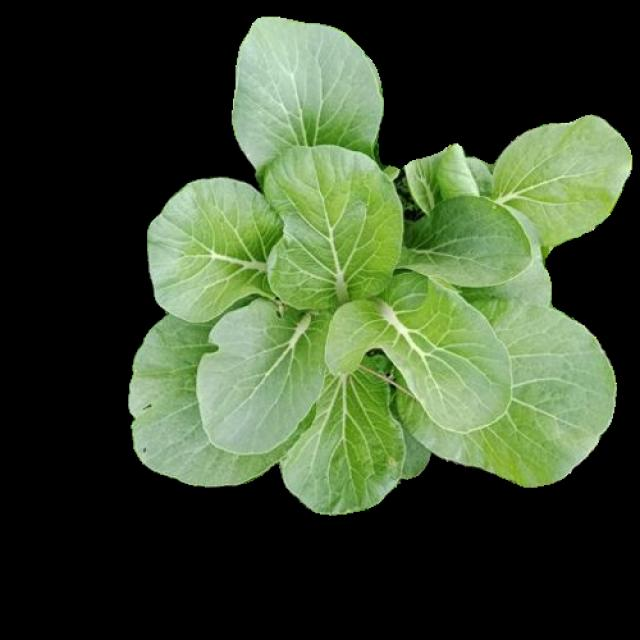mature: (128, 14, 632, 513)
unhealthy: (128, 316, 323, 513), (184, 296, 329, 452)
